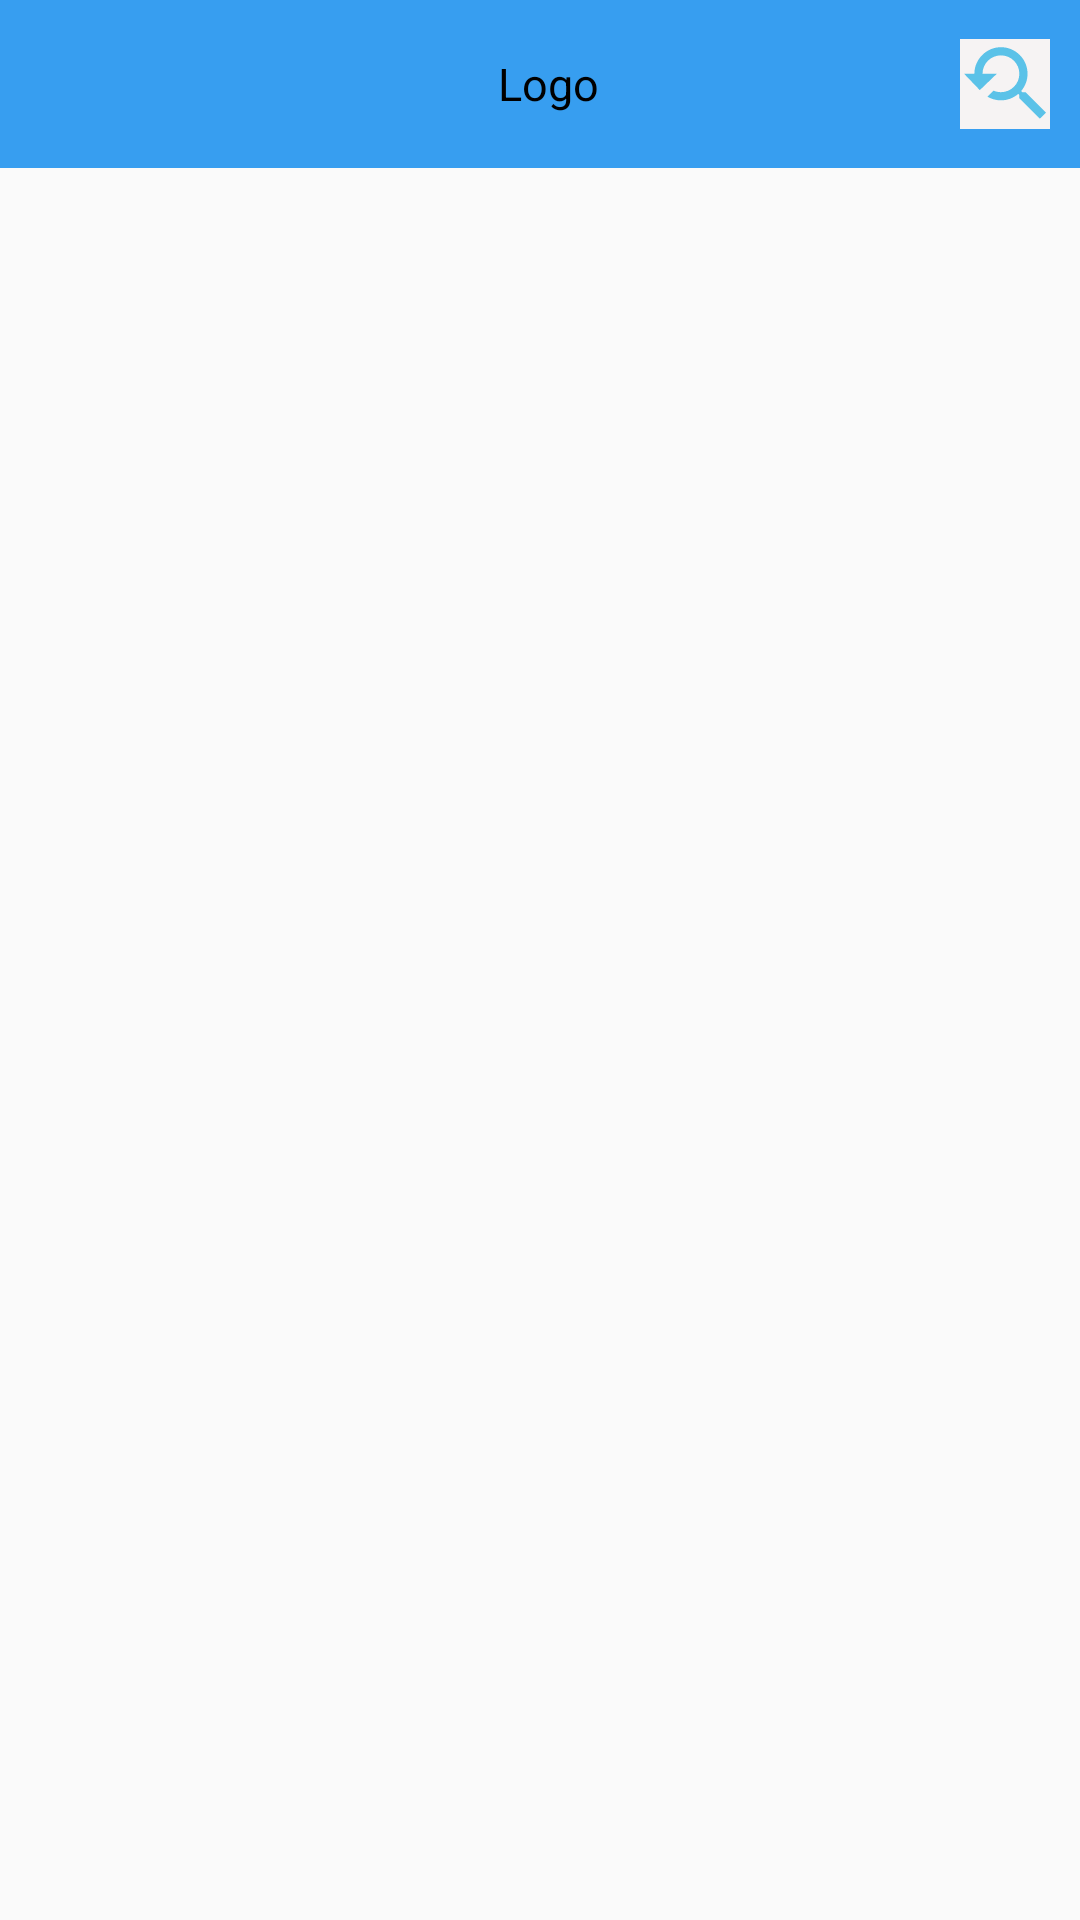

Named icons in this screenshot (1080w x 1920h) and their centers, [x,y]:
search: [1005,84]
